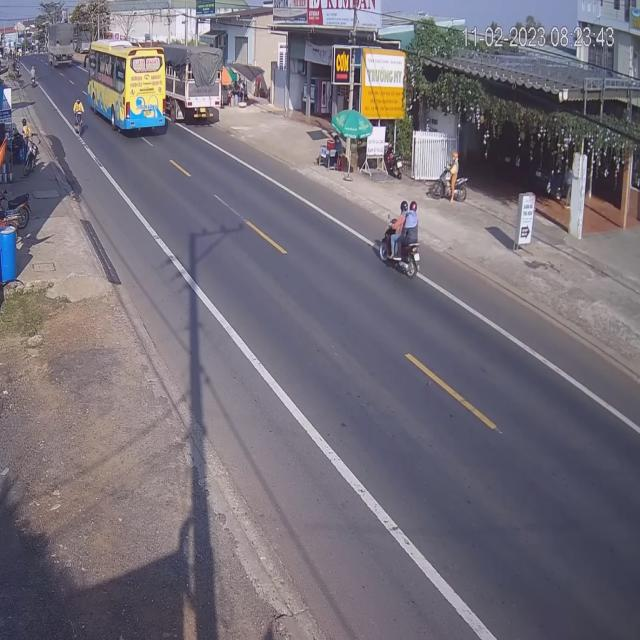bus: (87, 44, 168, 141)
motorbike: (375, 199, 419, 281), (439, 152, 466, 202), (72, 98, 85, 134)
truck: (167, 44, 224, 125), (49, 18, 77, 67)
